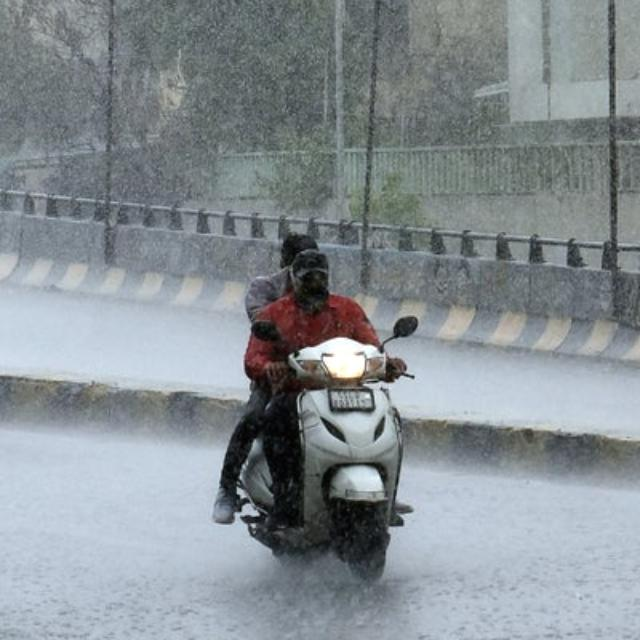licensePlate: (326, 385, 375, 415)
motorcycle: (206, 228, 421, 584)
withoutHelmet: (289, 253, 330, 310), (265, 233, 311, 273)
